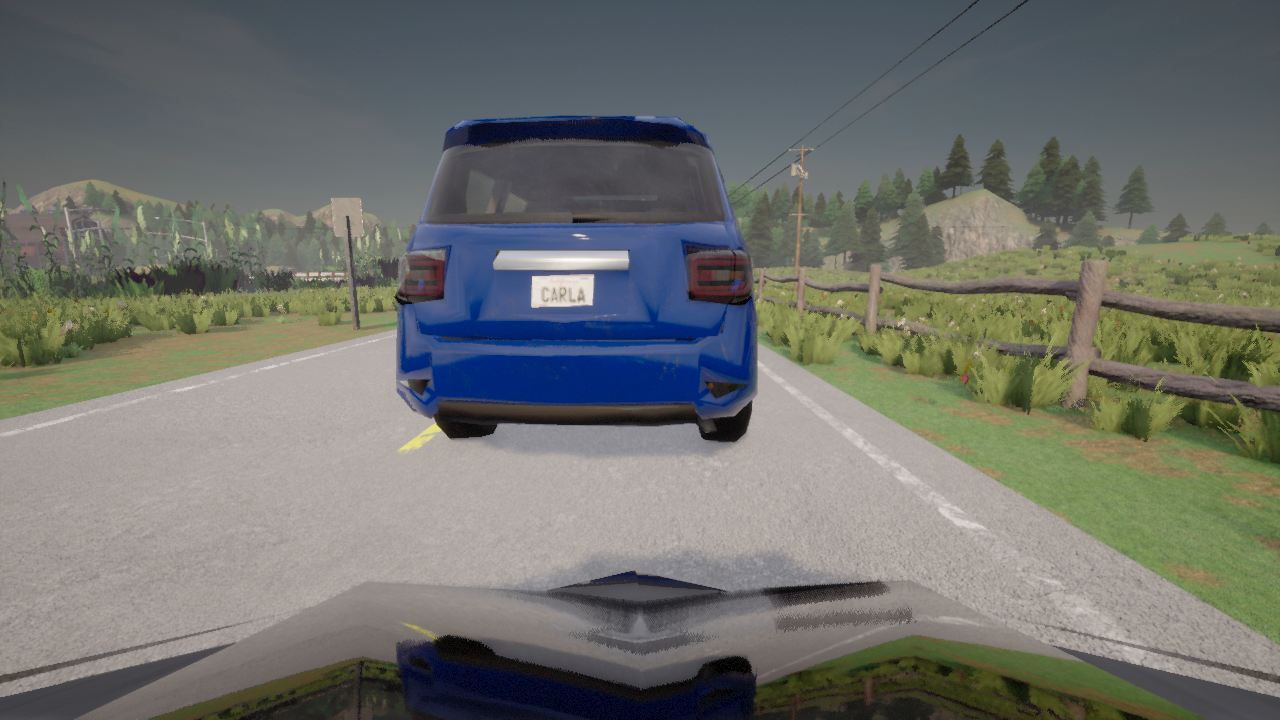cyclist: (0, 569, 1279, 719), (394, 115, 756, 441), (12, 269, 16, 276)
